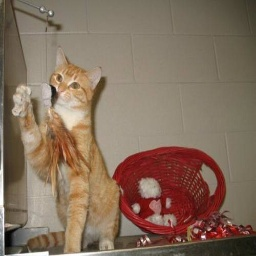cat: (10, 53, 133, 253)
